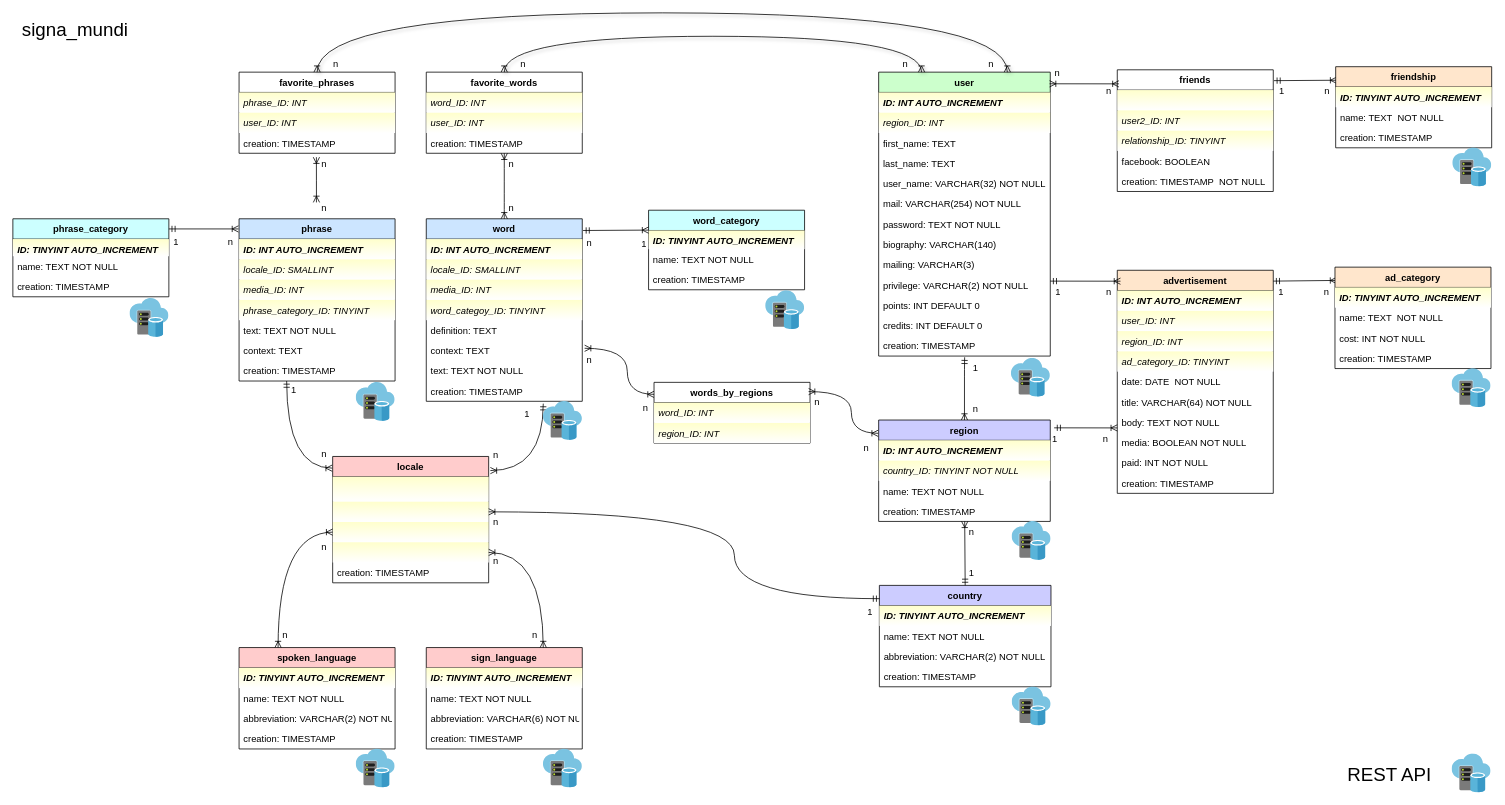
Some shapes in this 1505 by 805 pixel diagram are drawn without their labels. The shapes that lost their labels are listed below. From the top down, each one's centre as x and y in pixels, then its label:
At [1195,100]: "user1_ID: INT".
At [410,488]: "ID: SMALLINT AUTO_INCREMENT".
At [410,511]: "country_ID: TINYINT".
At [410,532]: "spoken_language_ID: TINYINT".
At [410,552]: "sign_language_ID: TINYINT".
